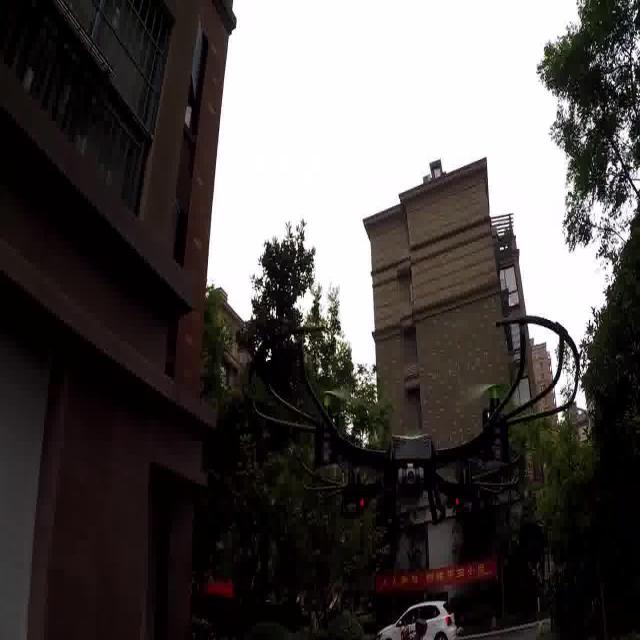drone: (222, 299, 584, 543)
